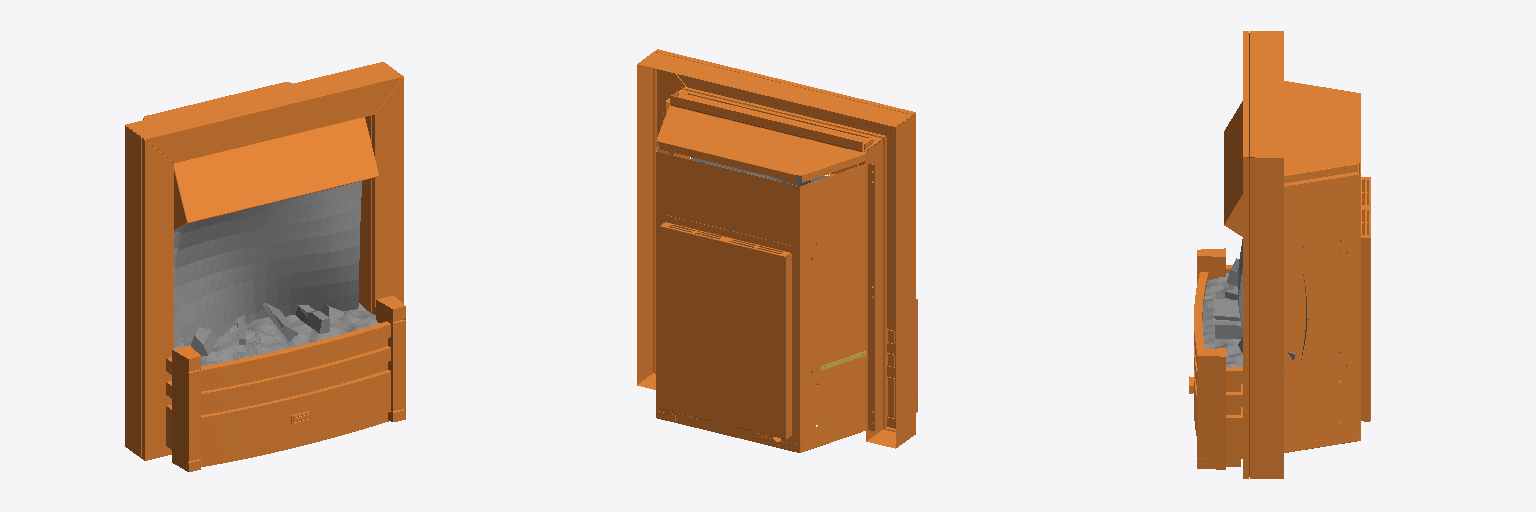
The model's file is Carrlotte.obj.
The picture shows the model from 3 angles: view 1: azimuth 30°, elevation 25°; view 2: azimuth 150°, elevation 25°; view 3: azimuth 270°, elevation 25°; orthographic projection.
Parts seen in each view (by area): view 1: Plane05, Plane10, Box09, ____MSBR134, Line01, Box07, Plane36, Box06, Box04, ____MSBR75; view 2: ____MSBR72, Plane05, ____MSBR110, ____MSBR75, ____MSBR112, ____MSBR76; view 3: ____MSBR72, Plane05, ____MSBR75, Box06, ____MSBR110, ____MSBR134, Plane36, Box11, Box07, Box09, ____MSBR76.
Part boxes in pixels (x1,y1,x2,y2): Plane05: (125,62,403,460); Plane10: (175,181,361,345); Box09: (201,321,391,457); ____MSBR134: (174,117,378,229); Line01: (201,338,388,466); Box07: (172,327,217,471); Plane36: (174,303,378,366); Box06: (236,296,405,421); Box04: (295,305,329,333); ____MSBR75: (143,82,292,119); ____MSBR72: (656,113,875,452); Plane05: (637,49,915,448); ____MSBR110: (660,215,791,438); ____MSBR75: (656,105,865,182); ____MSBR112: (670,91,872,151); ____MSBR76: (657,385,862,452); ____MSBR72: (1284,164,1360,452); Plane05: (1243,31,1283,478); ____MSBR75: (1284,81,1360,183); Box06: (1197,289,1237,469); ____MSBR110: (1361,177,1370,421); ____MSBR134: (1224,101,1242,236); Plane36: (1202,273,1331,374); Box11: (1226,367,1242,458); Box07: (1197,248,1238,286); Box09: (1194,272,1208,435); ____MSBR76: (1241,380,1357,452).
Size of the model in its own units: 20.79 by 24.74 by 12.61.